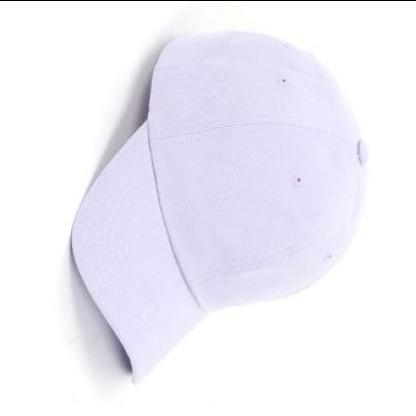cap: (63, 17, 376, 397)
